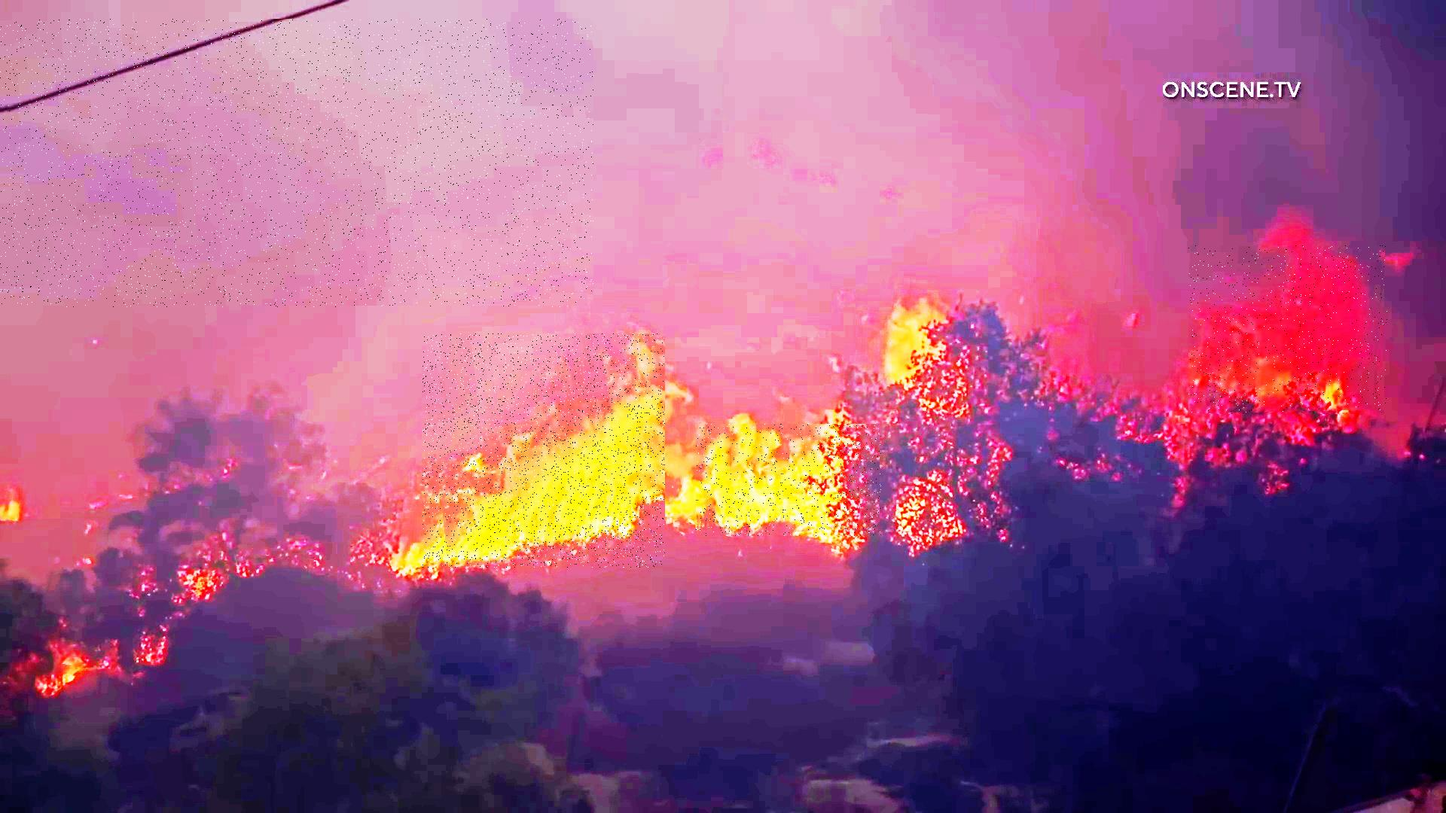fire: (423, 334, 665, 568), (1189, 245, 1388, 414), (696, 424, 882, 536)
smoke: (0, 19, 593, 308)
